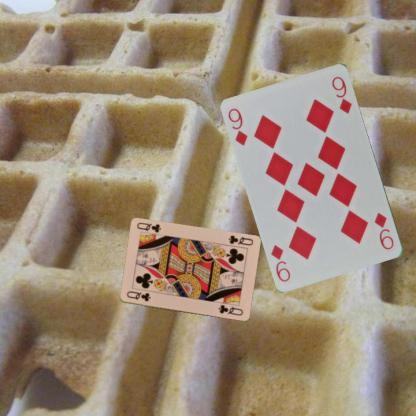9d: (225, 106, 250, 147), (372, 210, 395, 251)
Qc: (225, 233, 254, 247), (124, 289, 152, 303)
